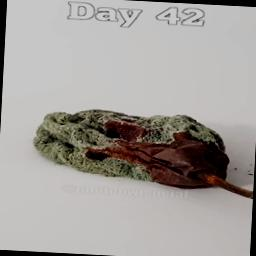Pear Rotten: (30, 104, 248, 214)
